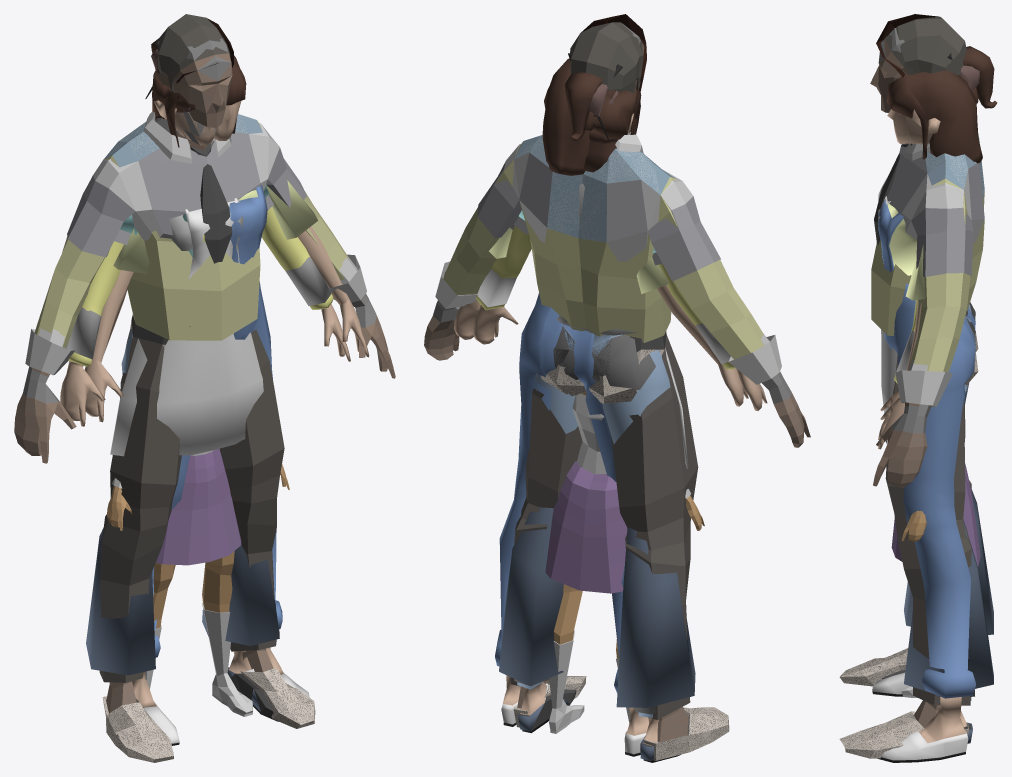
Rendered from PEOPLE TEST .glb.
The picture shows the model from 3 angles, left to right: view 1: azimuth 30°, elevation 25°; view 2: azimuth 150°, elevation 25°; view 3: azimuth 270°, elevation 25°; orthographic projection.
Parts seen in each view (by area): view 1: Husband 30s.001, MC 20s, Business man, Male Customer, MC 18, MC 50s, Child, Male Customer.001, female, female Customer; view 2: Husband 30s.001, MC 50s, MC 18, Male Customer, Child, Business man, Male Customer.001, female, MC 20s, female Customer; view 3: MC 18, Husband 30s.001, Male Customer, Business man, Male Customer.001, MC 50s, Child, female, MC 20s.
Boxes of the visible parts, x1,y1,x2,y2 form: Husband 30s.001: [32, 14, 365, 682]; MC 20s: [60, 64, 350, 721]; Business man: [15, 38, 387, 762]; Male Customer: [14, 18, 395, 762]; MC 18: [84, 55, 369, 745]; MC 50s: [67, 40, 331, 675]; Child: [107, 448, 289, 716]; Male Customer.001: [26, 132, 368, 383]; female: [68, 38, 333, 711]; female Customer: [114, 112, 273, 716]; Husband 30s.001: [443, 22, 778, 719]; MC 50s: [477, 53, 730, 745]; MC 18: [454, 58, 748, 756]; Male Customer: [424, 14, 810, 760]; Child: [545, 366, 704, 733]; Business man: [425, 23, 803, 759]; Male Customer.001: [437, 148, 783, 759]; female: [476, 72, 736, 760]; MC 20s: [472, 88, 767, 762]; female Customer: [514, 217, 662, 746]; MC 18: [872, 70, 982, 762]; Husband 30s.001: [871, 16, 984, 705]; Male Customer: [839, 14, 984, 758]; Business man: [840, 28, 984, 758]; Male Customer.001: [887, 146, 984, 724]; MC 50s: [895, 53, 993, 727]; Child: [891, 463, 980, 697]; female: [894, 46, 997, 743]; MC 20s: [878, 87, 978, 696].
Bounding box in the file's own units: 1.96 × 3.56 × 0.7276.
